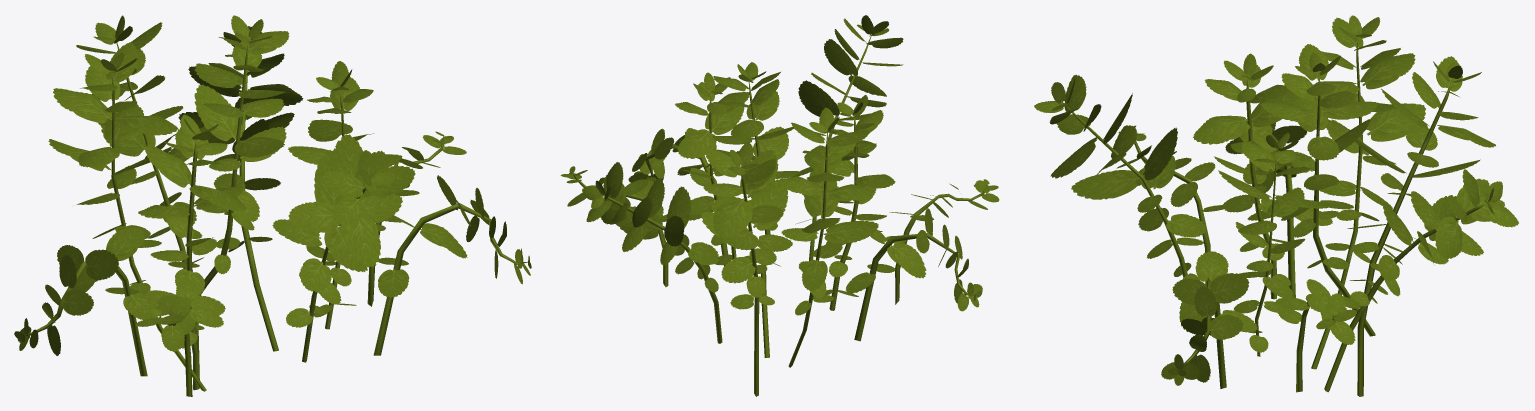
Rendered from Cultivo 3.fbx.
The picture shows the model from 3 angles, left to right: view 1: azimuth 30°, elevation 25°; view 2: azimuth 150°, elevation 25°; view 3: azimuth 270°, elevation 25°; orthographic projection. The views are drawn at different scales.
Visible parts, largest first — view 1: Object_14; view 2: Object_14; view 3: Object_14.
Part boxes in pixels (<box>): Object_14: <box>14,15,531,396</box>; Object_14: <box>560,15,999,396</box>; Object_14: <box>1034,15,1518,396</box>.
Size of the model in its own units: 29.4 by 22.21 by 27.68.
1 material, 1 textured.
